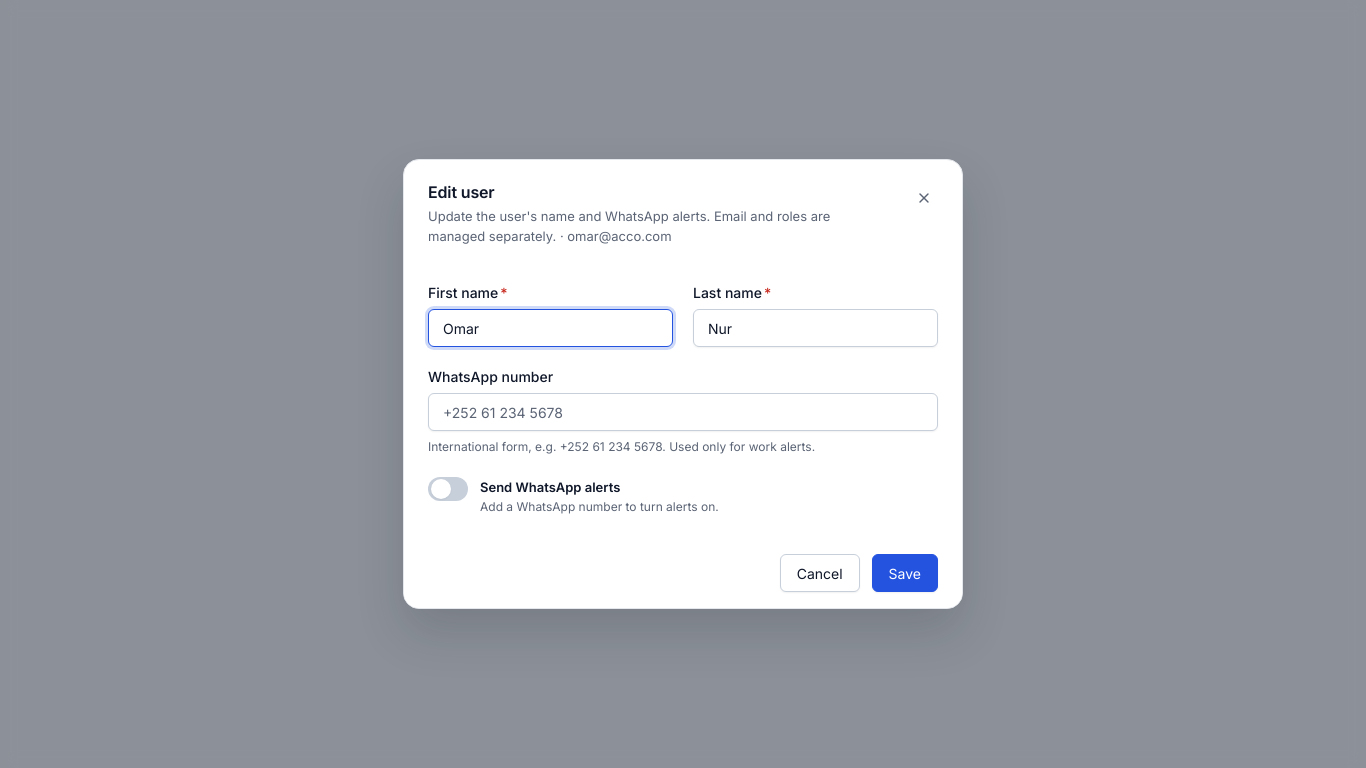
Scenario: user commands — success feedback › confirms an edit with a toast naming the saved user
Replace the text in the field labelled "Last name*" with "Nuur" at (816, 328), box x1=693 y1=309 x2=938 y2=347
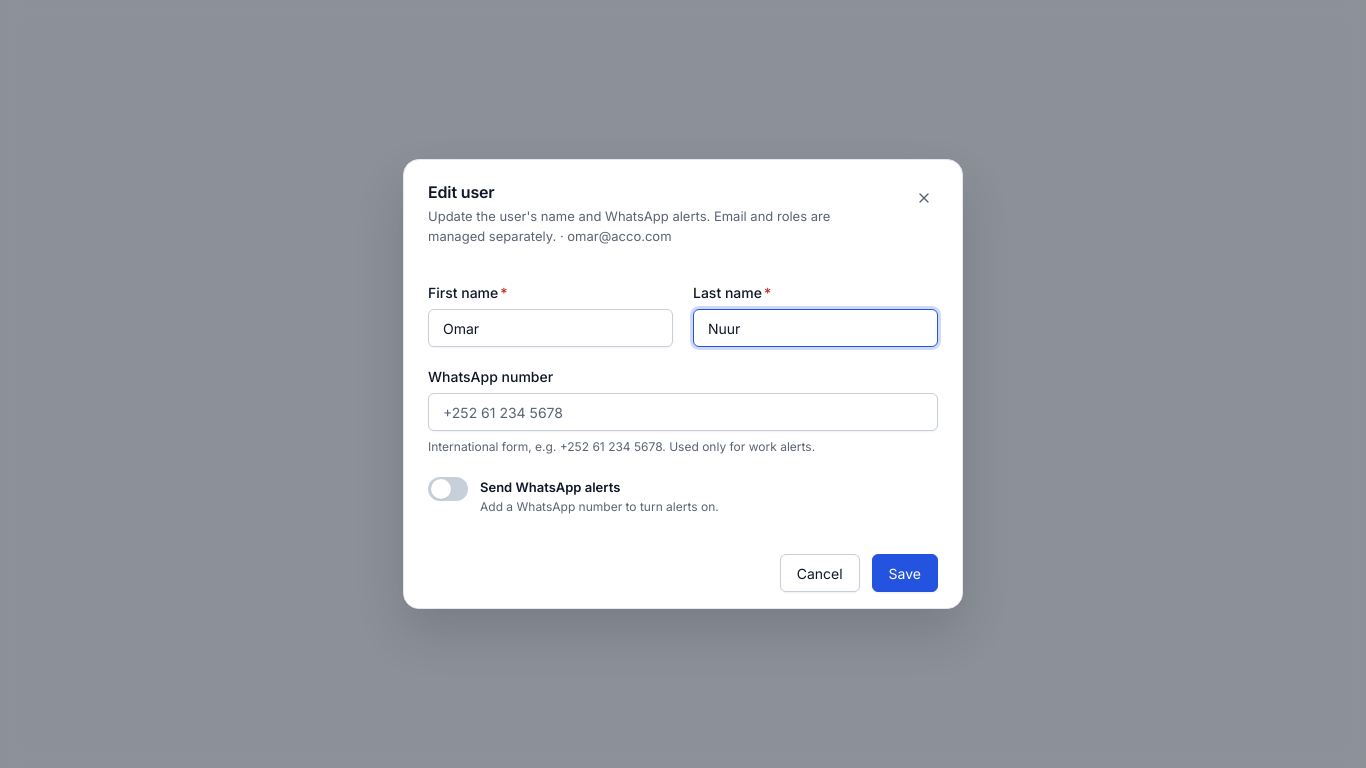
Click the button "Save" at (905, 573), box x1=872 y1=554 x2=938 y2=592
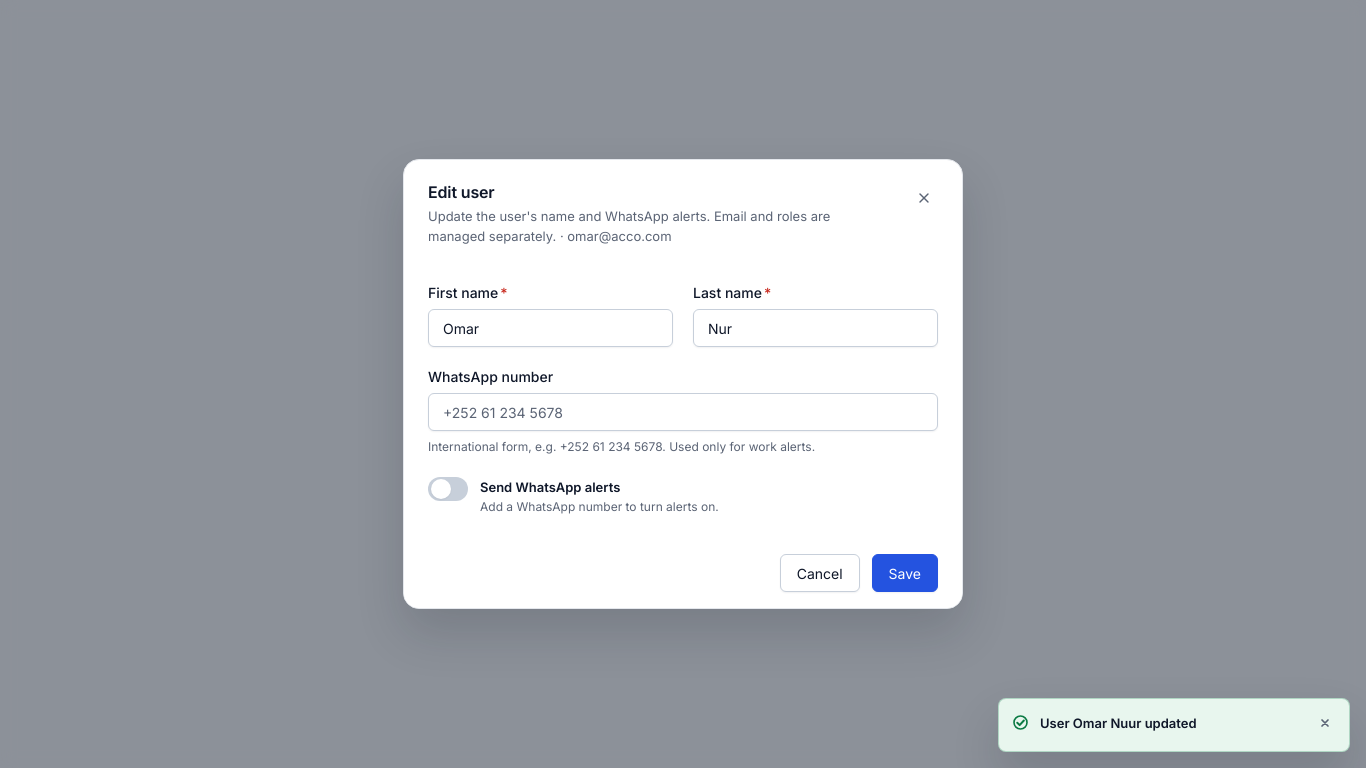
Result: the text "User Omar Nuur updated" is shown at x1=1040 y1=715 x2=1197 y2=731
